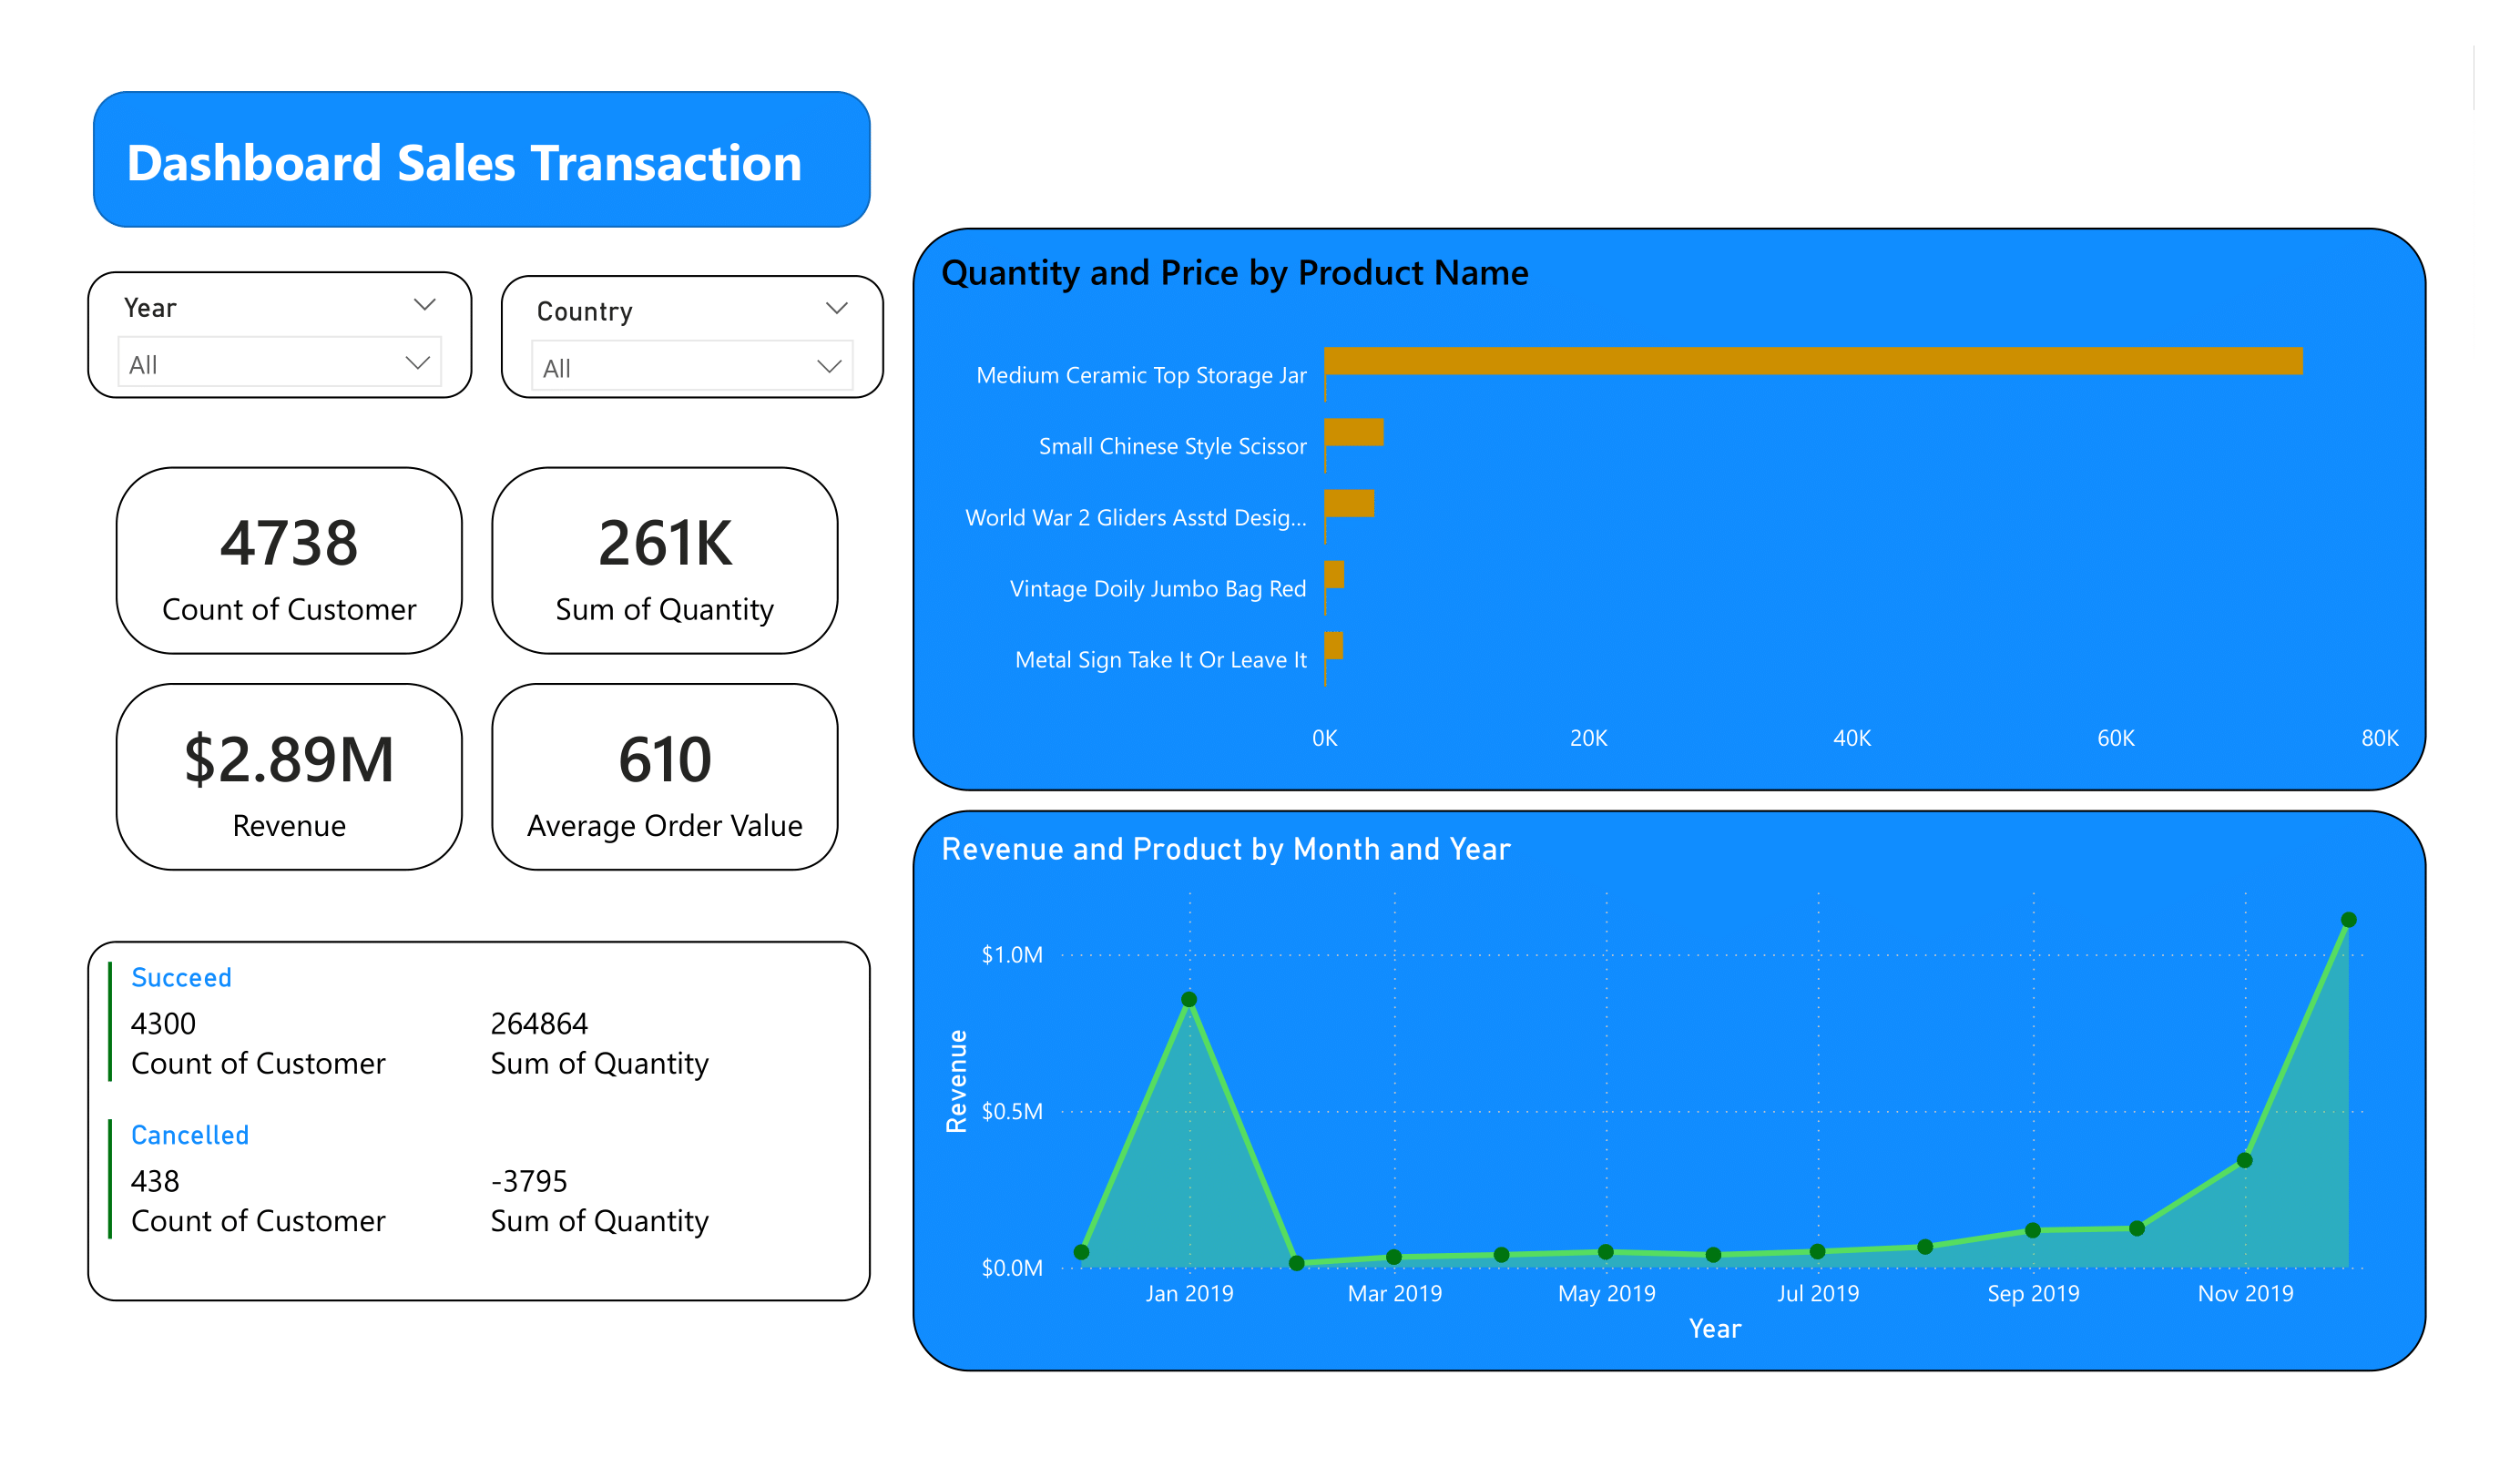

Layout of this report page (visuals, bound fields, positions):
{"tool":"powerbi","page":{"name":"Page 1","canvas":[1280,720],"ordinal":0},"visuals":[{"type":"shape","box":[25.2,23.5,409.9,72.2],"z":2000},{"type":"areaChart","title":"Revenue and Product by Month and Year","fields":{"Category":["Sales Transaction v 4a.DMY.Variation.Date Hierarchy.Year","Sales Transaction v 4a.DMY.Variation.Date Hierarchy.Month"],"Y":["Sales Transaction v 4a.Revenue"]},"box":[456.9,403.1,797.9,295.6],"z":3000},{"type":"clusteredBarChart","title":"Quantity and Price by Product Name","fields":{"Category":["Sales Transaction v 4a.ProductName"],"Y":["Sum(Sales Transaction v 4a.Quantity)","Sum(Sales Transaction v 4a.Price)"]},"box":[456.9,95.7,797.9,297.3],"z":4000},{"type":"multiRowCard","title":"Order Status","fields":{"Values":["CountNonNull(Sales Transaction v 4a.CustomerID)","Sales Transaction v 4a.Status","Sum(Sales Transaction v 4a.Quantity)"]},"box":[21.8,472,413.2,189.8],"z":5000},{"type":"slicer","fields":{"Values":["Sales Transaction v 4a.Year"]},"box":[21.8,119.3,203.3,67.2],"z":6000},{"type":"slicer","fields":{"Values":["Sales Transaction v 4a.Country"]},"box":[240.2,120.9,201.6,65.5],"z":7000},{"type":"textbox","title":"Dashboard Sales Transaction","box":[37,42,404.8,38.6],"z":8000},{"type":"card","fields":{"Values":["Sales Transaction v 4a.Revenue"]},"box":[37,336,183.1,99.1],"z":9000},{"type":"card","fields":{"Values":["Sum(Sales Transaction v 4a.Quantity)"]},"box":[235.2,221.7,183.1,99.1],"z":10000},{"type":"card","fields":{"Values":["Count(Sales Transaction v 4a.CustomerID)"]},"box":[37,221.7,183.1,99.1],"z":11000},{"type":"card","fields":{"Values":["Sales Transaction v 4a.Average Order Value"]},"box":[235.2,336,183.1,99.1],"z":12000}]}

Visuals, with their boxes in screenshot pixels (x1, y1, x2, y2):
shape: (left=94, top=90, right=872, bottom=227)
"Revenue and Product by Month and Year" areaChart: (left=913, top=810, right=2426, bottom=1371)
"Quantity and Price by Product Name" clusteredBarChart: (left=913, top=227, right=2426, bottom=791)
"Order Status" multiRowCard: (left=87, top=941, right=871, bottom=1301)
slicer - Sales Transaction v 4a.Year: (left=87, top=272, right=473, bottom=400)
slicer - Sales Transaction v 4a.Country: (left=501, top=275, right=884, bottom=399)
"Dashboard Sales Transaction" textbox: (left=116, top=126, right=884, bottom=199)
card - Sales Transaction v 4a.Revenue: (left=116, top=683, right=464, bottom=871)
card - Sum(Sales Transaction v 4a.Quantity): (left=492, top=466, right=840, bottom=654)
card - Count(Sales Transaction v 4a.CustomerID): (left=116, top=466, right=464, bottom=654)
card - Sales Transaction v 4a.Average Order Value: (left=492, top=683, right=840, bottom=871)
